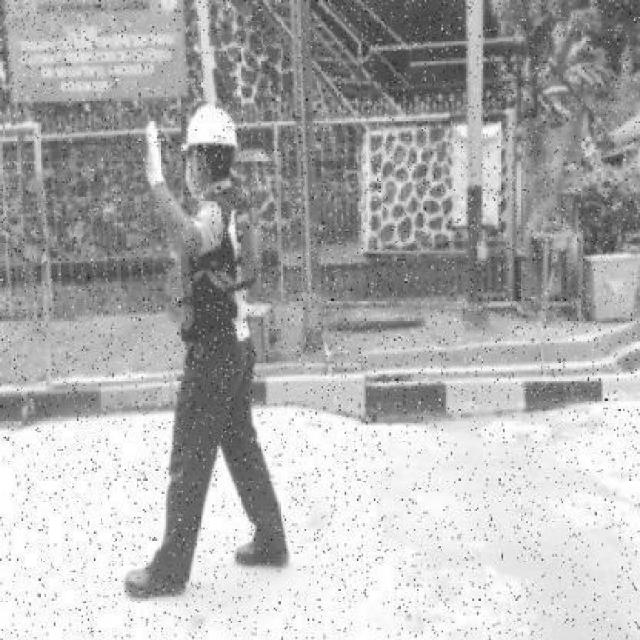Boots: (122, 560, 190, 598), (233, 534, 292, 571)
Gloves: (140, 119, 168, 190)
Helmet: (175, 102, 240, 155)
Mask: (181, 163, 197, 194)
Vest: (158, 204, 264, 330)
